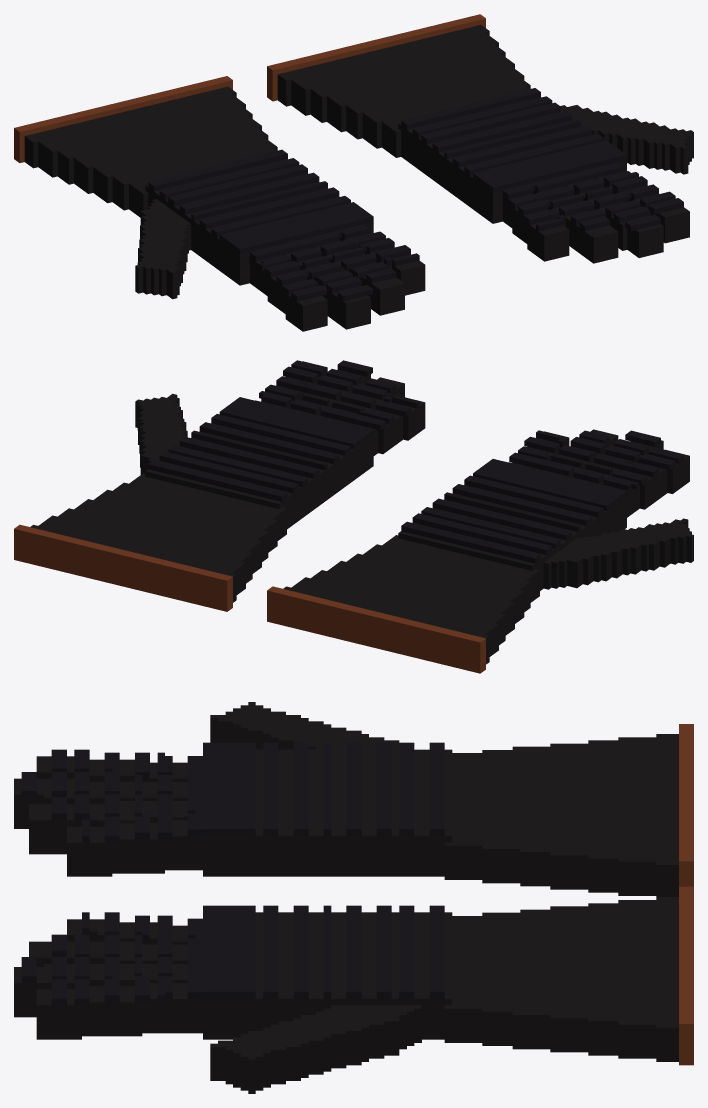
Rendered from gauntlets_xlblack_dragon_scale.glb.
3 renders of one model, top to bottom at view 1: azimuth 30°, elevation 25°; view 2: azimuth 150°, elevation 25°; view 3: azimuth 270°, elevation 25°, orthographic. The views are drawn at different scales.
Visible parts, largest first — view 1: gauntlets_xlblack_dragon_scale:compound; view 2: gauntlets_xlblack_dragon_scale:compound; view 3: gauntlets_xlblack_dragon_scale:compound.
Part boxes in pixels (x1=…): gauntlets_xlblack_dragon_scale:compound: x1=14, y1=14, x2=693, y2=331; gauntlets_xlblack_dragon_scale:compound: x1=14, y1=360, x2=693, y2=673; gauntlets_xlblack_dragon_scale:compound: x1=14, y1=702, x2=693, y2=1093.
Bounding box in the file's own units: 0.448 × 0.028 × 0.36.
